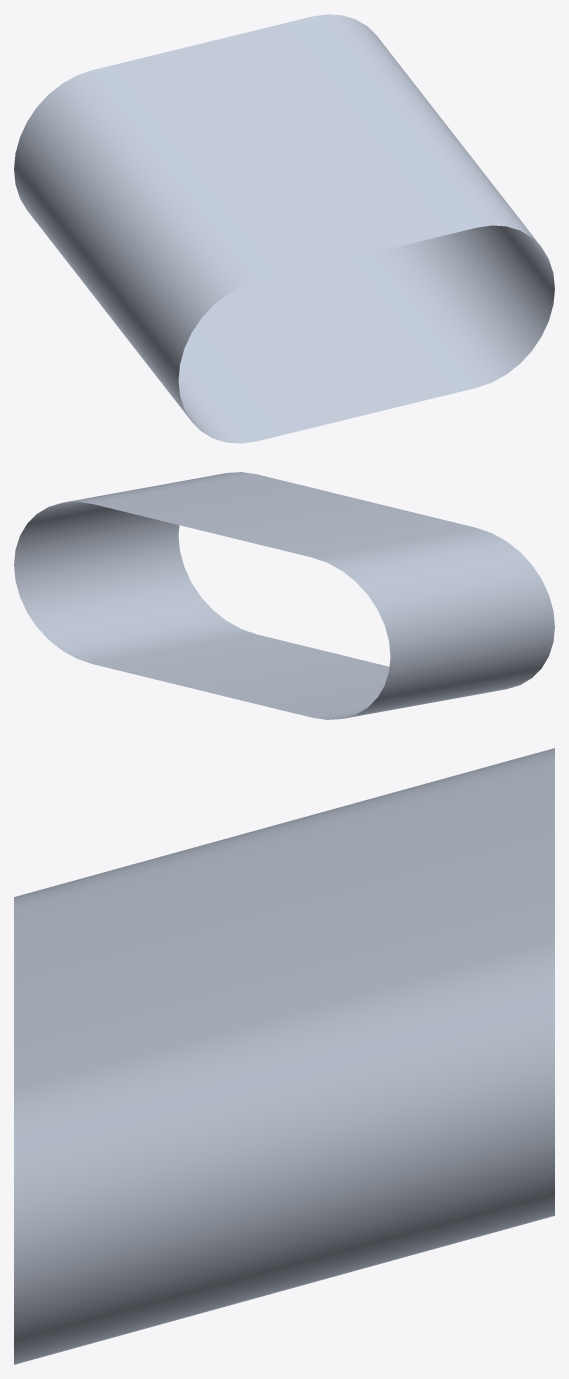
File: Light.fbx
3 views of the same model, one above another, from view 1: azimuth 30°, elevation 25°; view 2: azimuth 150°, elevation 25°; view 3: azimuth 270°, elevation 25° (orthographic). The views are drawn at different scales.
Visible parts, largest first — view 1: LightShaft; view 2: LightShaft; view 3: LightShaft.
Boxes of the visible parts, x1,y1,x2,y2 form: LightShaft: (14,14,554,443); LightShaft: (14,472,554,719); LightShaft: (14,748,554,1364).
Size of the model in its own units: 7.26 by 4.62 by 5.5.
